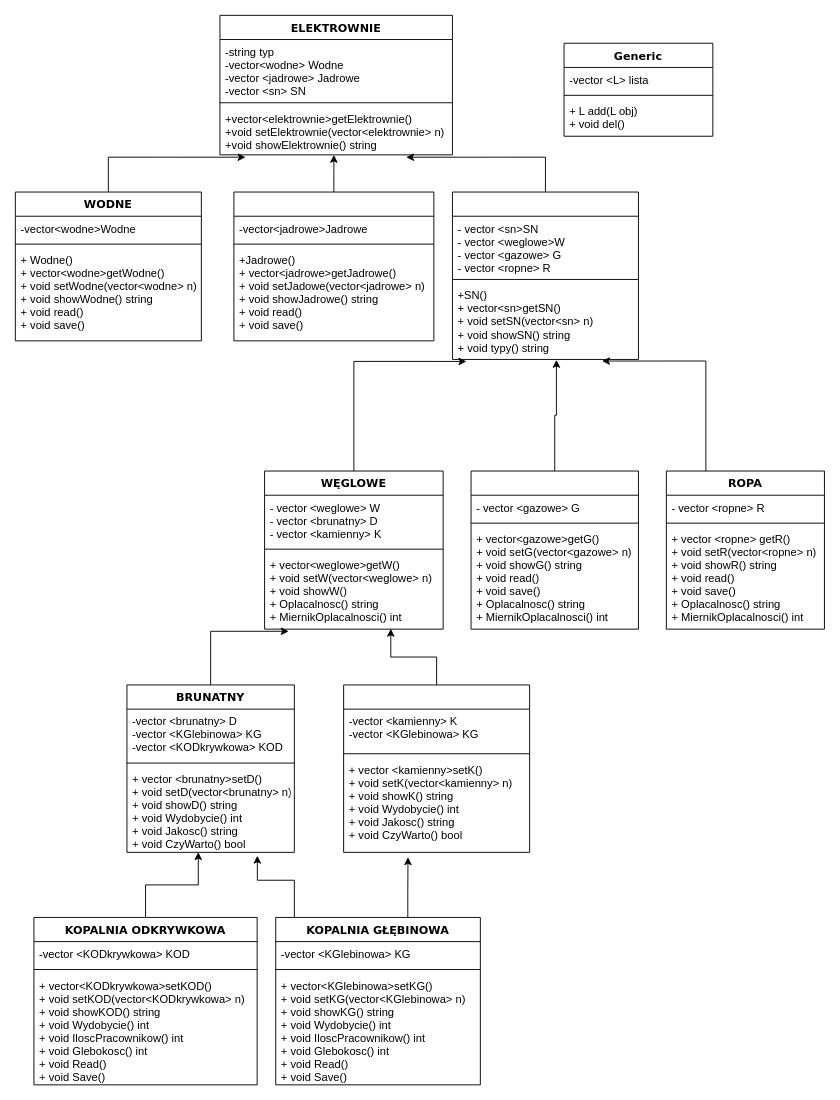
This 840x1100 diagram has some shape labels left out. Each missing label, with the box of its shape:
GAZOWE: (470, 470, 638, 629)
JĄDROWE: (233, 191, 434, 341)
KAMIENNY: (343, 684, 530, 852)
SUROWCÓW NATURALNYCH: (452, 191, 638, 359)
